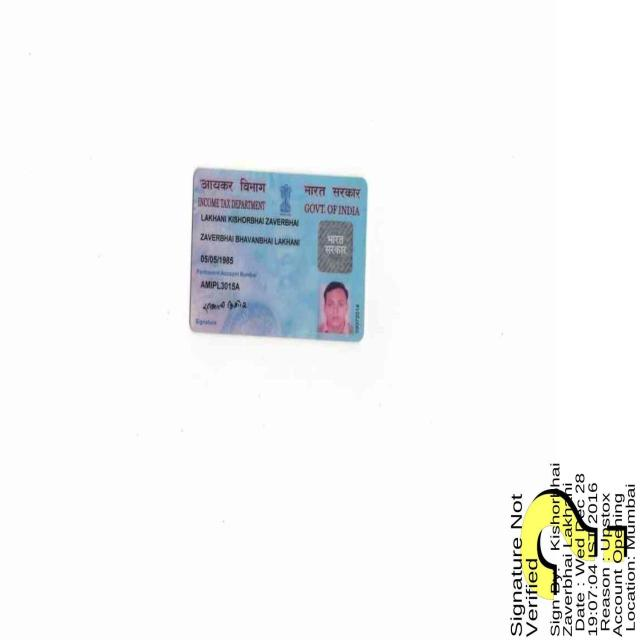pan_card: (189, 169, 367, 342)
